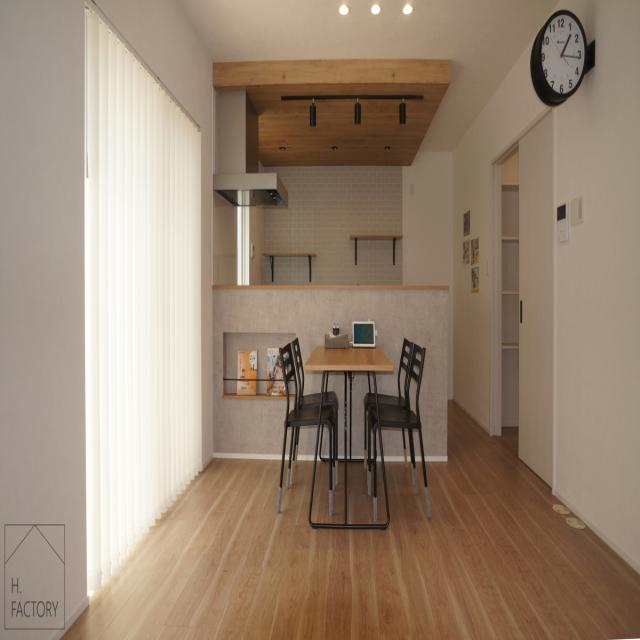natural chair: (364, 340, 430, 517), (277, 338, 334, 516)
natural desk: (305, 343, 391, 536)
